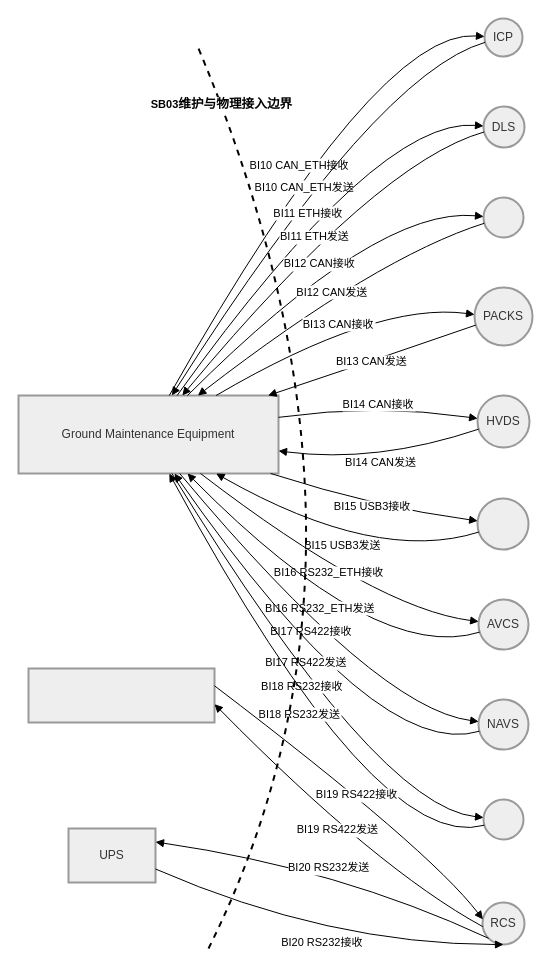
Image size: 550x966. Some labels were removed from this diagram. Each missing label, with the centre of its shape:
DAAS: point 502,523
Debug Equipment: point 121,695
EPS: point 503,217
PES: point 503,819
